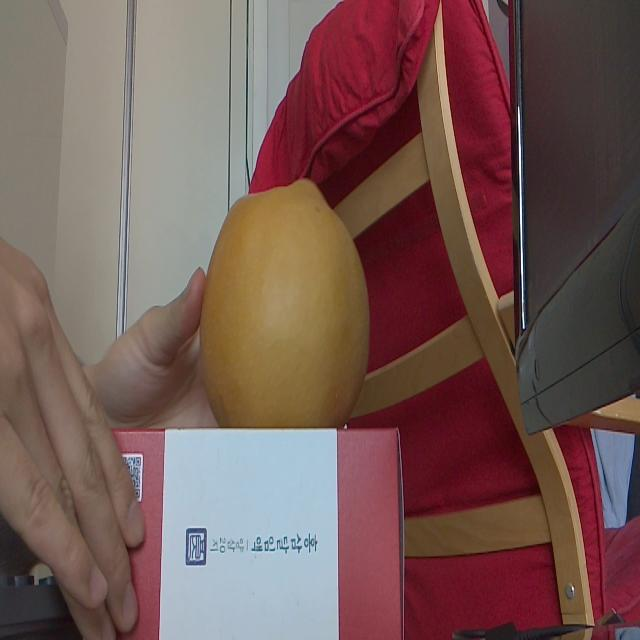pear: (198, 177, 370, 431)
